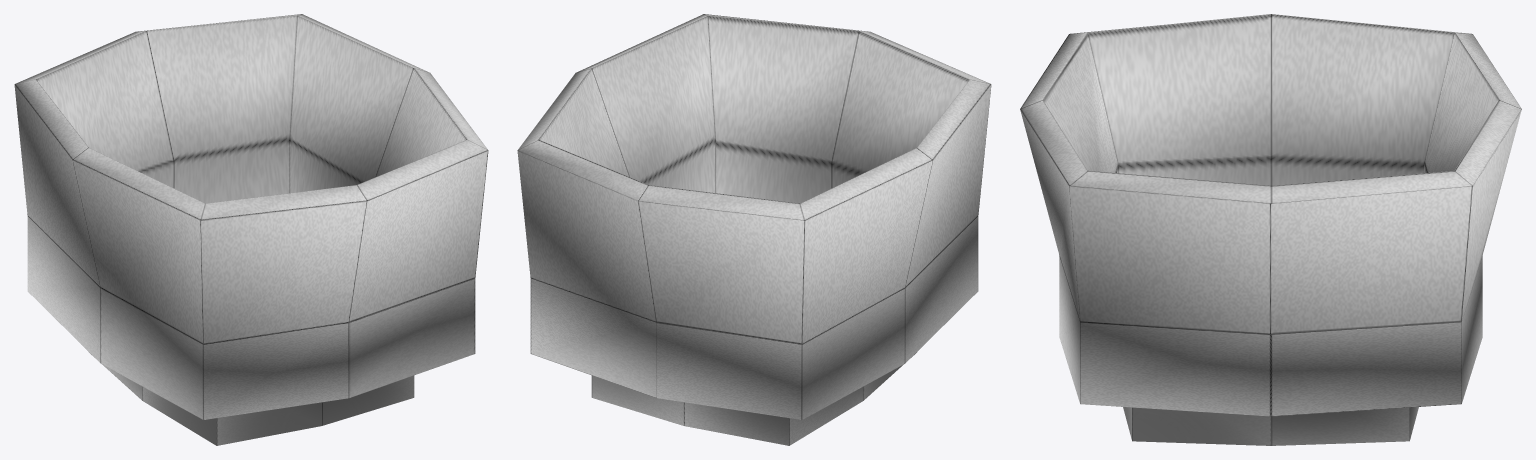
The model's file is Pit.fbx.
The picture shows the model from 3 angles, left to right: view 1: azimuth 30°, elevation 25°; view 2: azimuth 150°, elevation 25°; view 3: azimuth 270°, elevation 25°; orthographic projection. The views are drawn at different scales.
Visible parts, largest first — view 1: Cube_024; view 2: Cube_024; view 3: Cube_024.
Part boxes in pixels (<box>): Cube_024: <box>14,14,488,445</box>; Cube_024: <box>517,14,991,445</box>; Cube_024: <box>1020,14,1521,445</box>.
Size of the model in its own units: 45224 by 32305 by 50747.
